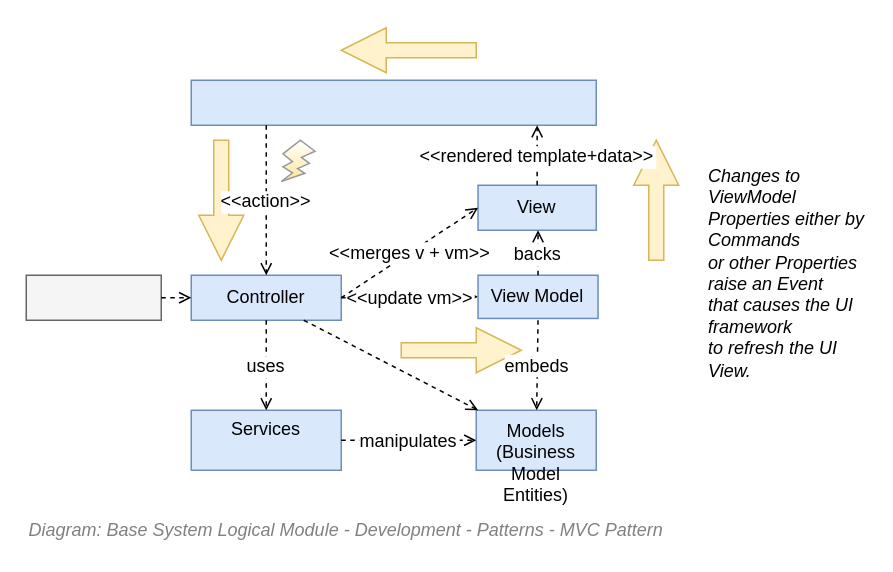
This 893x572 diagram has some shape labels left out. The centre of each missing label's shape, as x and y in pixels:
UnitTests: (93,297)
User: (393,102)
